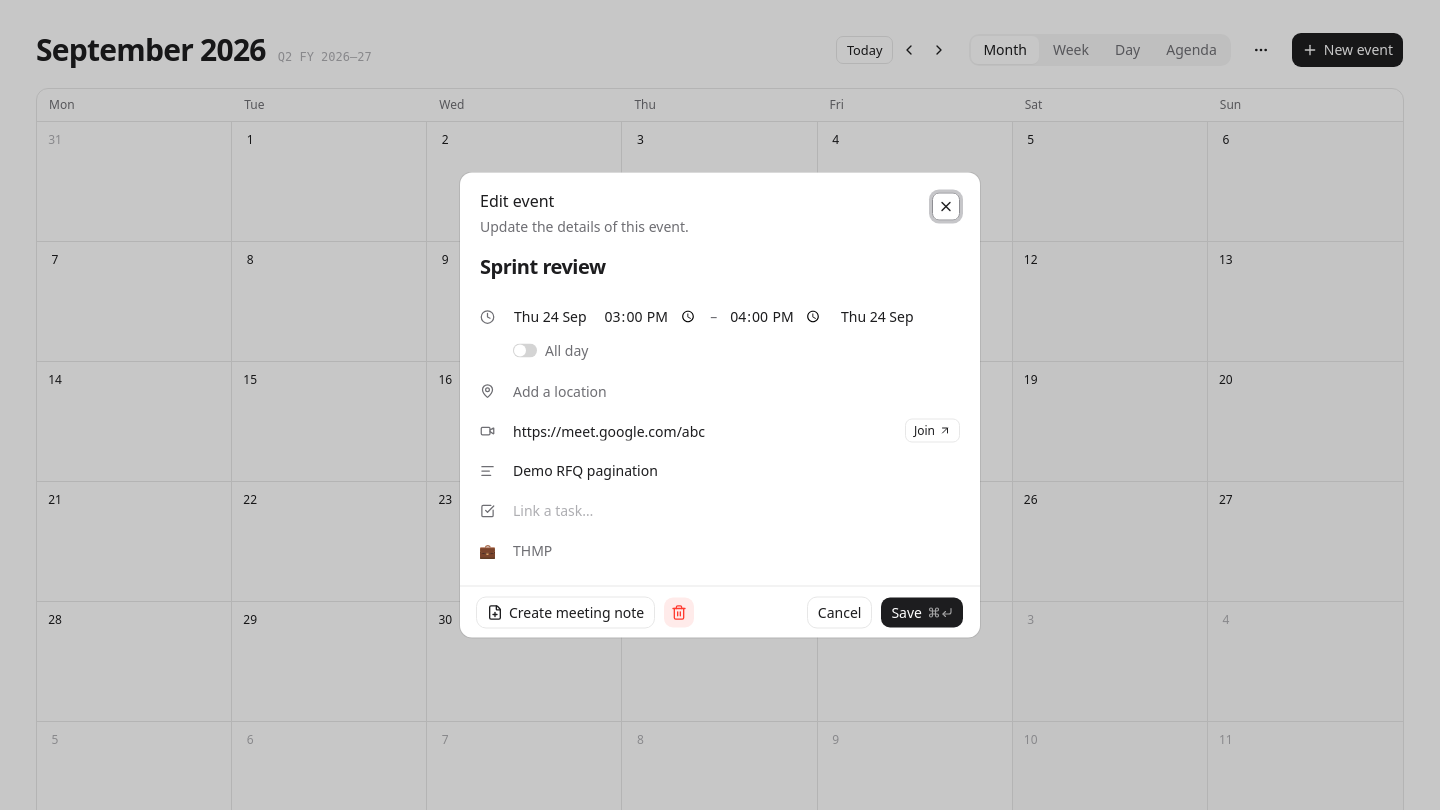
Test: CalendarPage › a deep link jumps to the event month and opens it; deleting offers Undo
expect the text box named "Event title" holds "Sprint review": met, box [480,252,960,280]
expect the heading "September 2026" is shown: met, box [36,32,266,68]
Step 1. Click the button named "Delete event" → (679, 612), box [663,596,695,628]
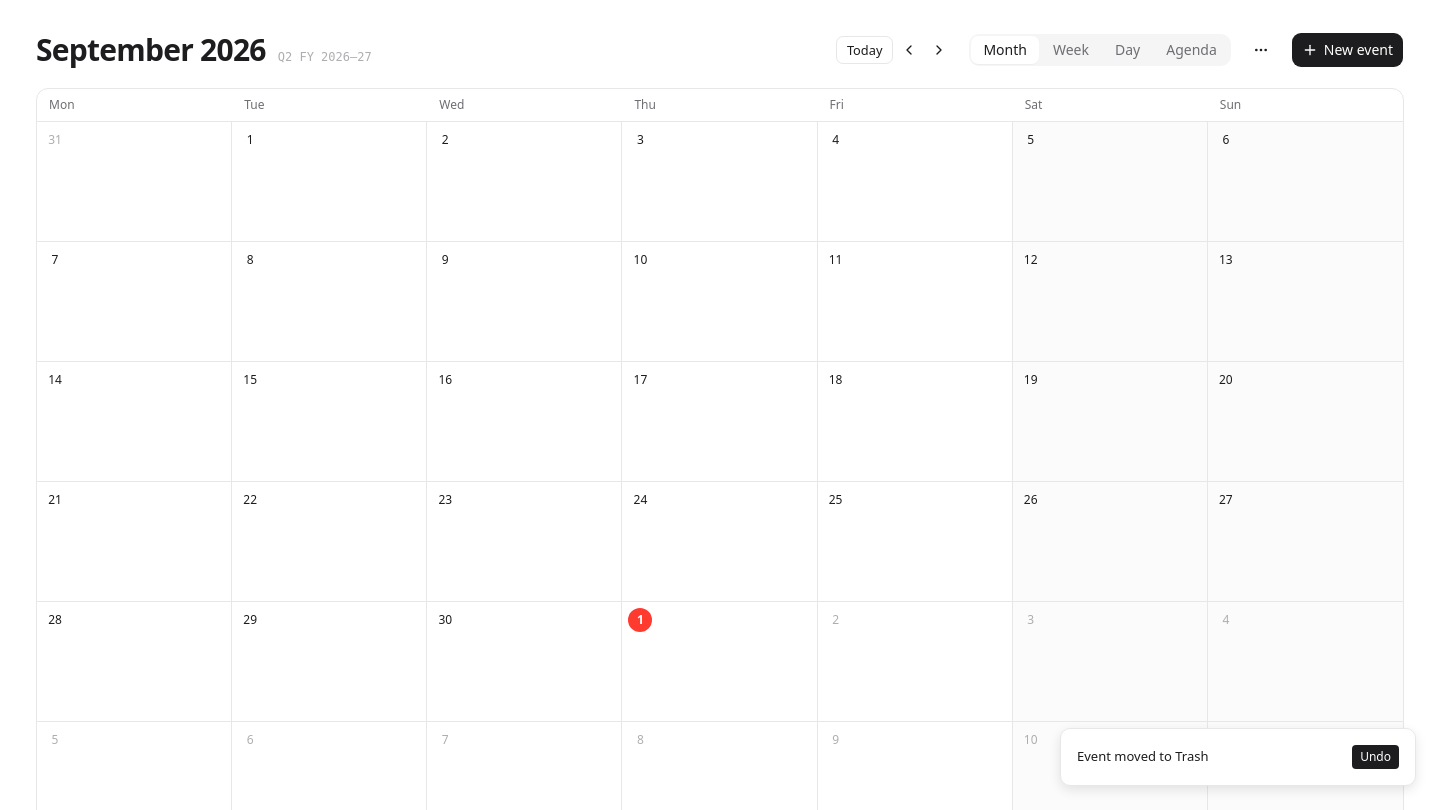
expect the text "Event moved to Trash" is shown: met, box [1077,747,1208,767]
